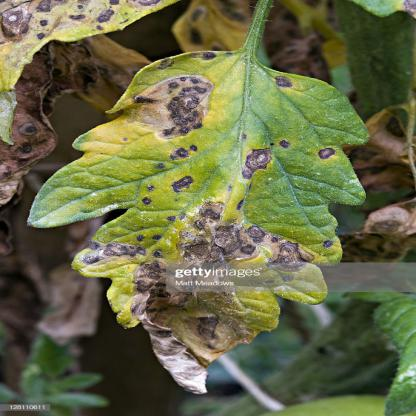Tomato Septoria leaf spot: (8, 43, 369, 387)
